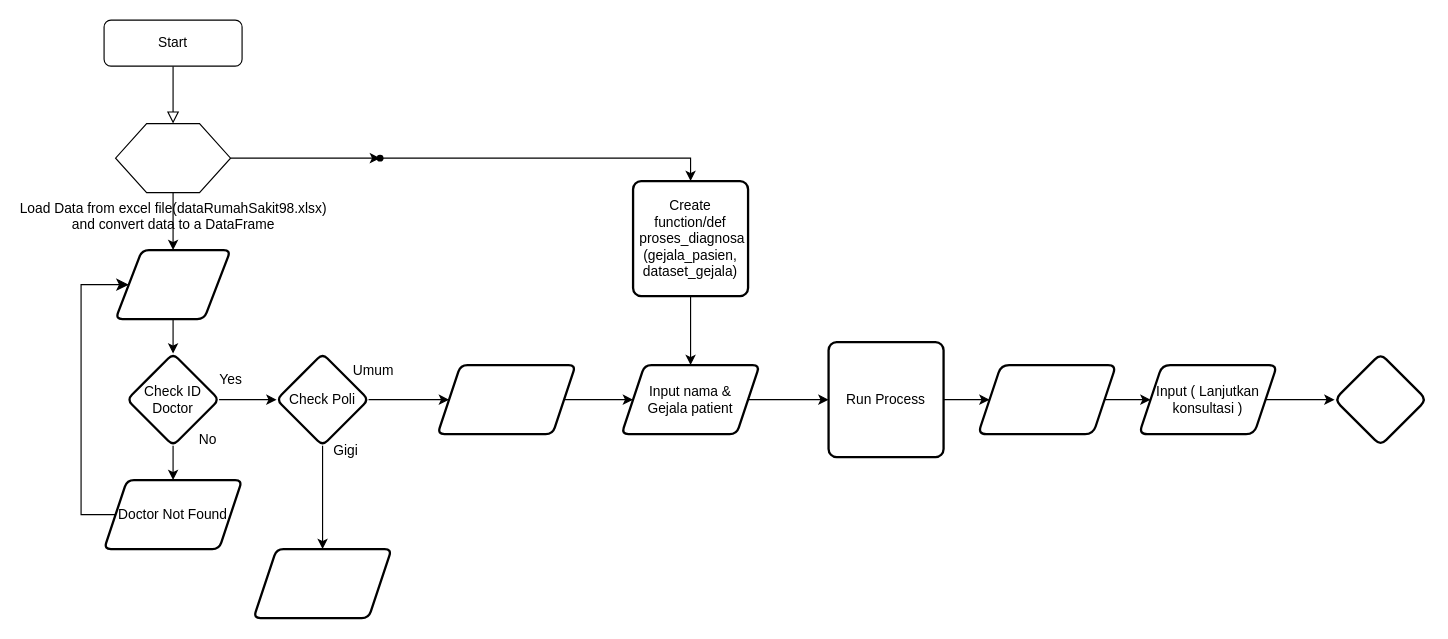
Some shapes in this 1448 by 639 pixel diagram are drawn without their labels. The centre of each missing label's shape, as x and y in pixels:
"Input Doctor ID" belongs at point 172,284.
"Output : Poli gigi view" belongs at point 322,583.
"Output : Poli Umum view" belongs at point 506,399.
"Output : Result gejala patient" belongs at point 1046,399.
